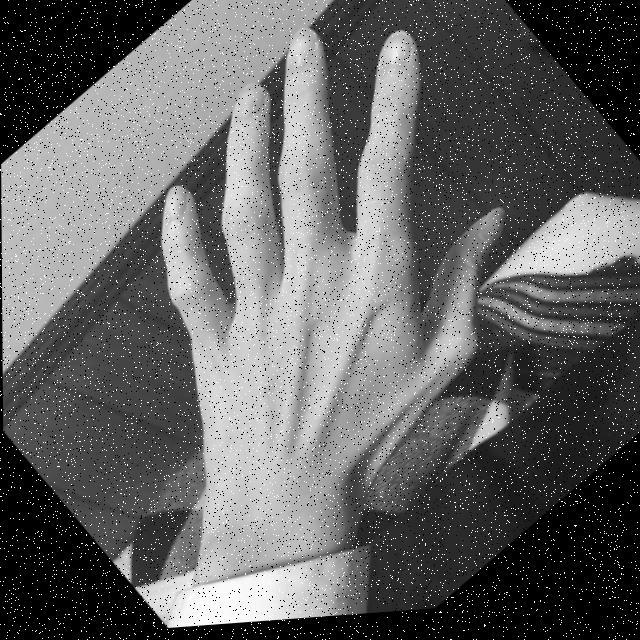no-gloves: (24, 0, 616, 584)
